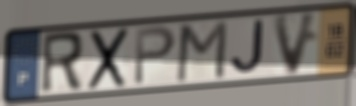J: (229, 18, 265, 77)
M: (173, 18, 230, 85)
P: (132, 24, 179, 88)
R: (38, 29, 86, 97)
V: (270, 10, 321, 79)
X: (85, 25, 132, 93)
